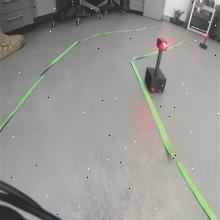red: (156, 36, 168, 51)
